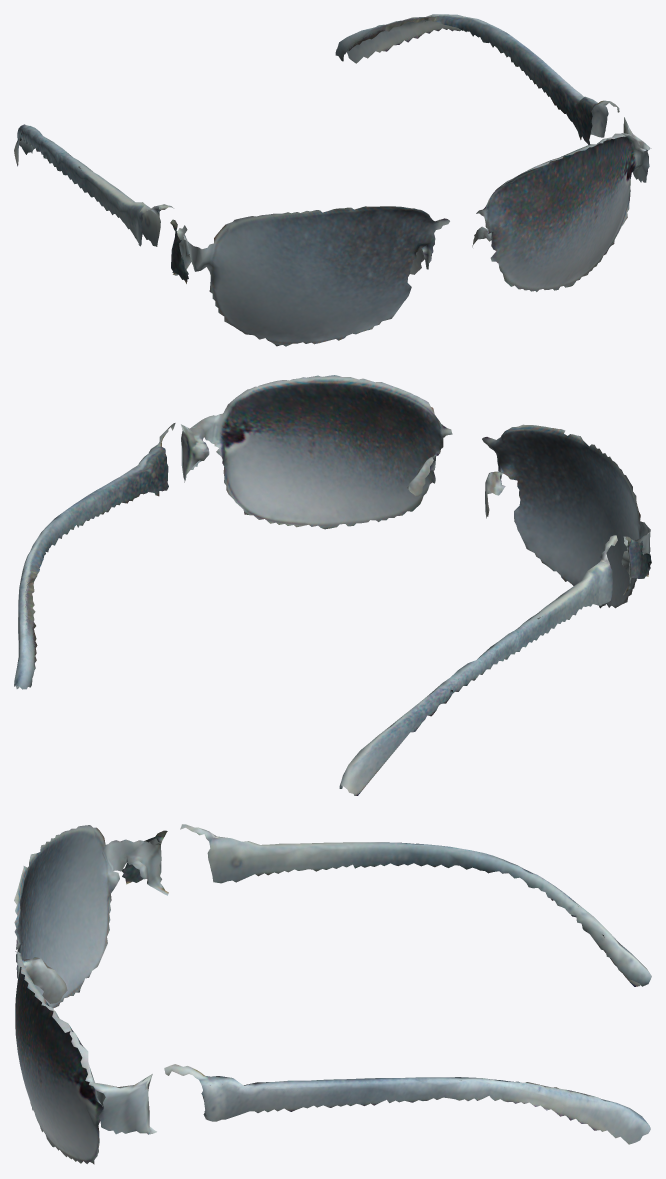
Rendered from scan_align.obj.
3 views of the same model, one above another, from view 1: azimuth 30°, elevation 25°; view 2: azimuth 150°, elevation 25°; view 3: azimuth 270°, elevation 25° (orthographic). The views are drawn at different scales.
Bounding box in the file's own units: 0.1455 × 0.0435 × 0.1567.
Materials: 1 (1 with a texture image).
